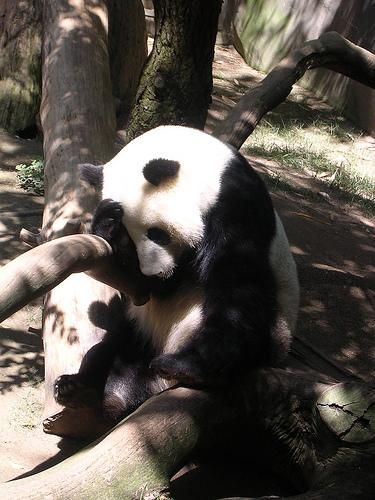panda: (44, 125, 298, 434)
